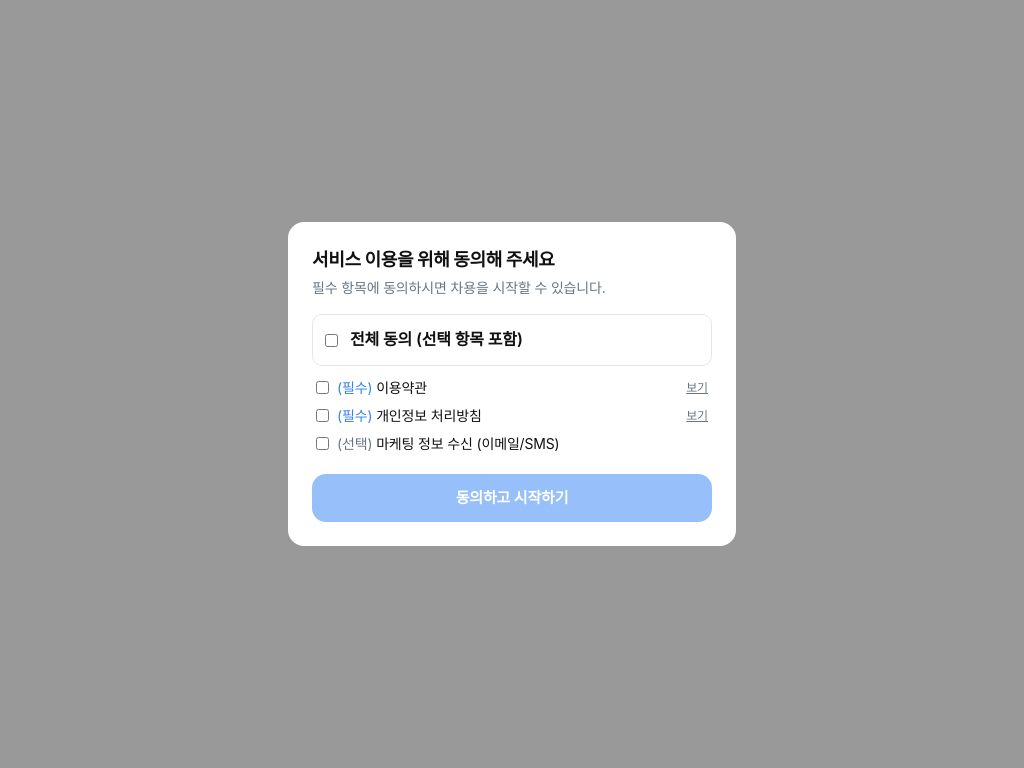
ConsentModal › toggles all when 'select all' is clicked
Click the checkbox labelled "전체 동의 (선택 항목 포함)" at [332, 340], box [325,334,338,346]
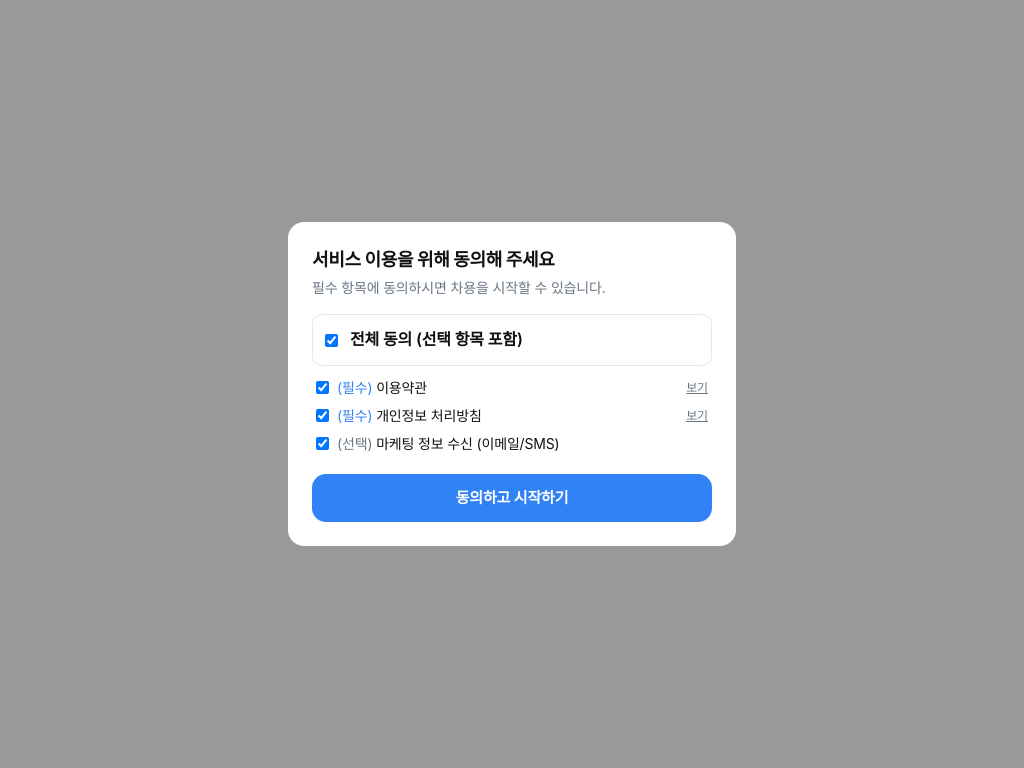
Now the checkbox labelled "(필수) 이용약관" is checked, box [316,381,329,394]
Now the checkbox labelled "(필수) 개인정보 처리방침" is checked, box [316,409,329,422]
Now the checkbox labelled "(선택) 마케팅 정보 수신 (이메일/SMS)" is checked, box [316,437,329,450]
